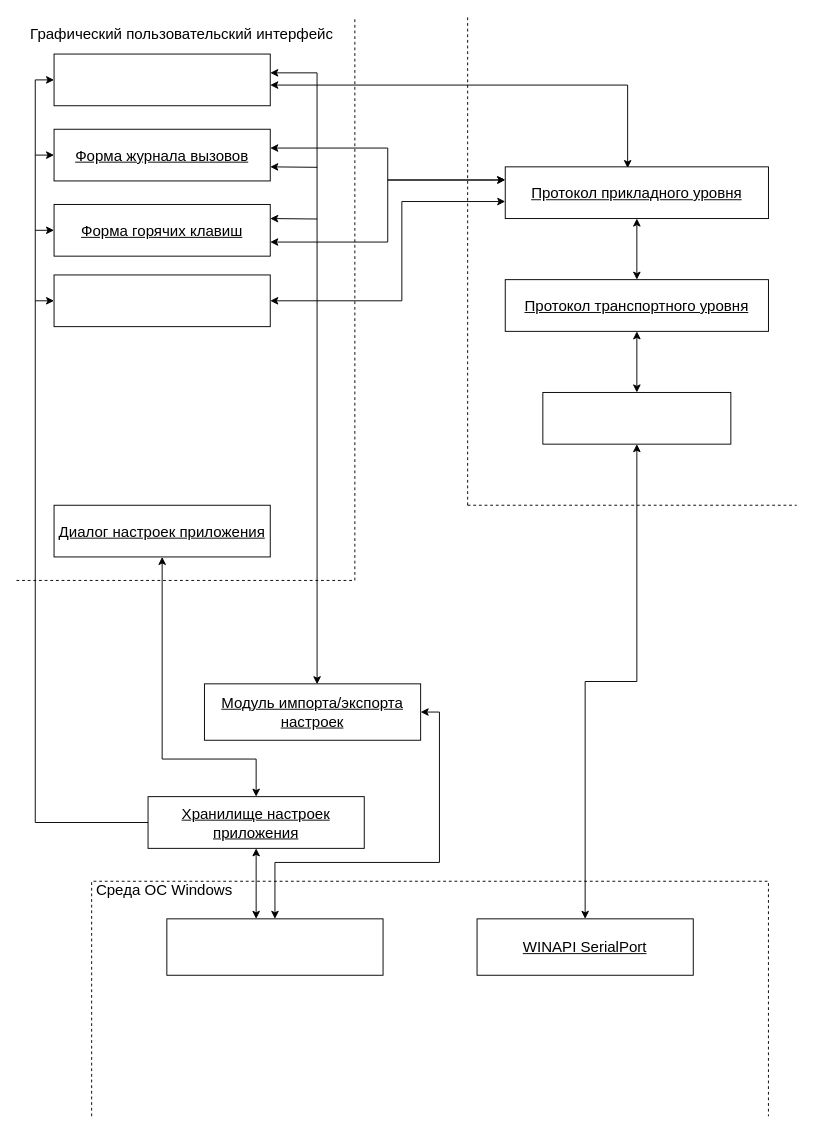
Some shapes in this 814 by 1134 pixel diagram are drawn without their labels. Here are the shapes that lost their labels. From the top down, the centre of each, then its label:
At [161,79]: "Форма телефонной книги".
At [161,300]: "Форма настроек ТА".
At [636,418]: "Интерфейс к SerialPort".
At [274,946]: "Файловая система".
